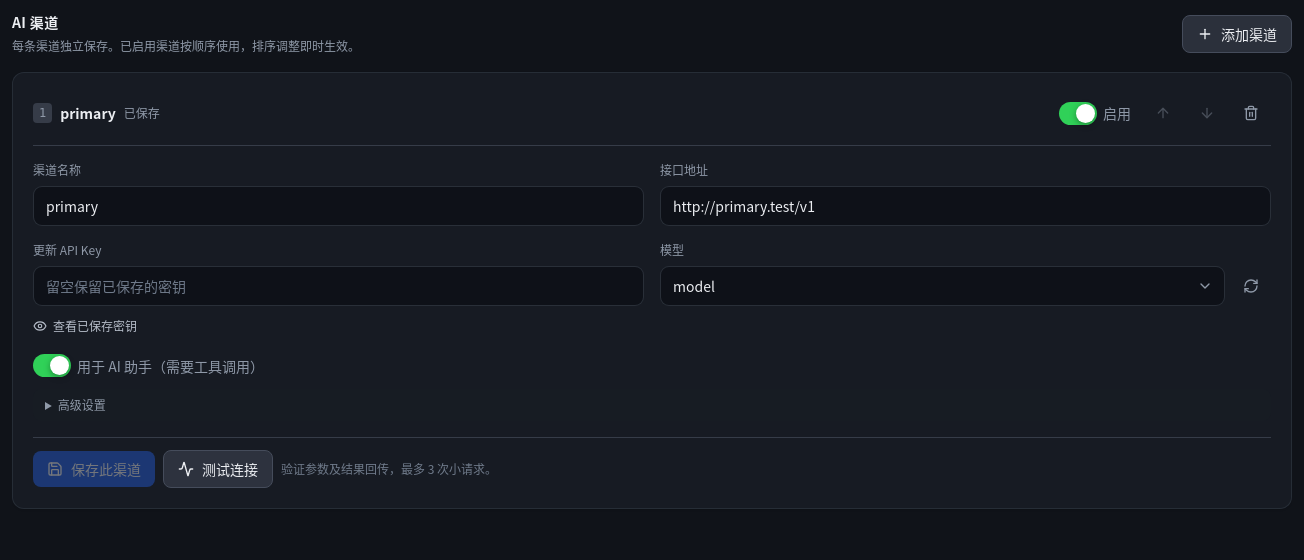
AI 渠道设置 › 撤销回到已保存值；过期版本保留草稿并可显式重新载入
Replace the text in the field labelled "渠道名称" with "草稿" at x=338, y=206, box [33,186,644,226]
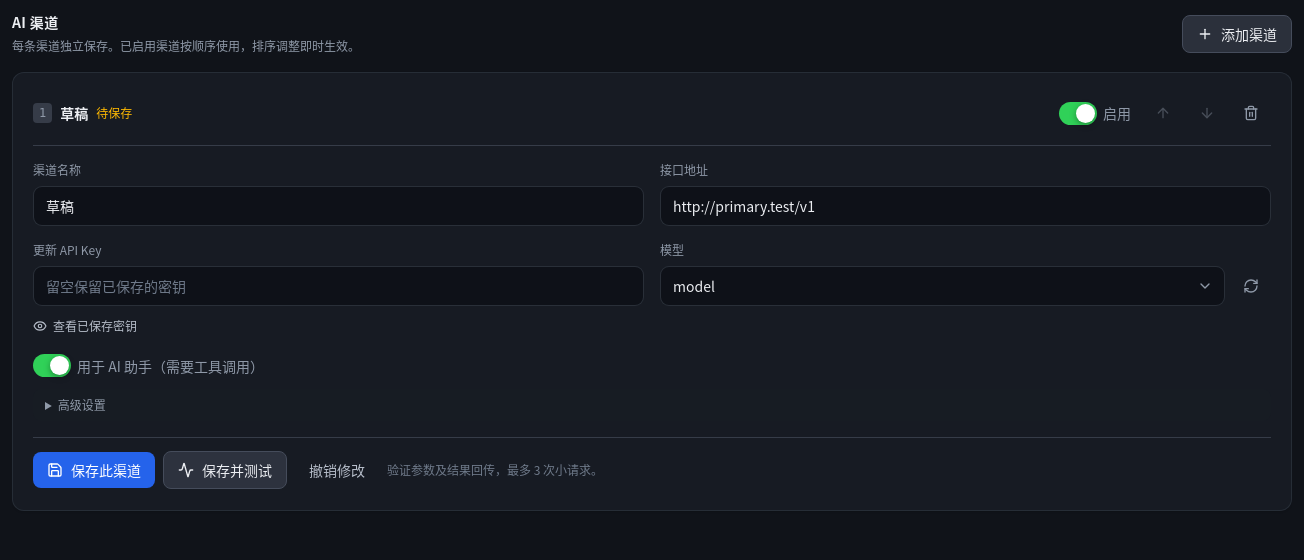
Click the button "撤销修改" at x=337, y=470, box [295,450,379,490]
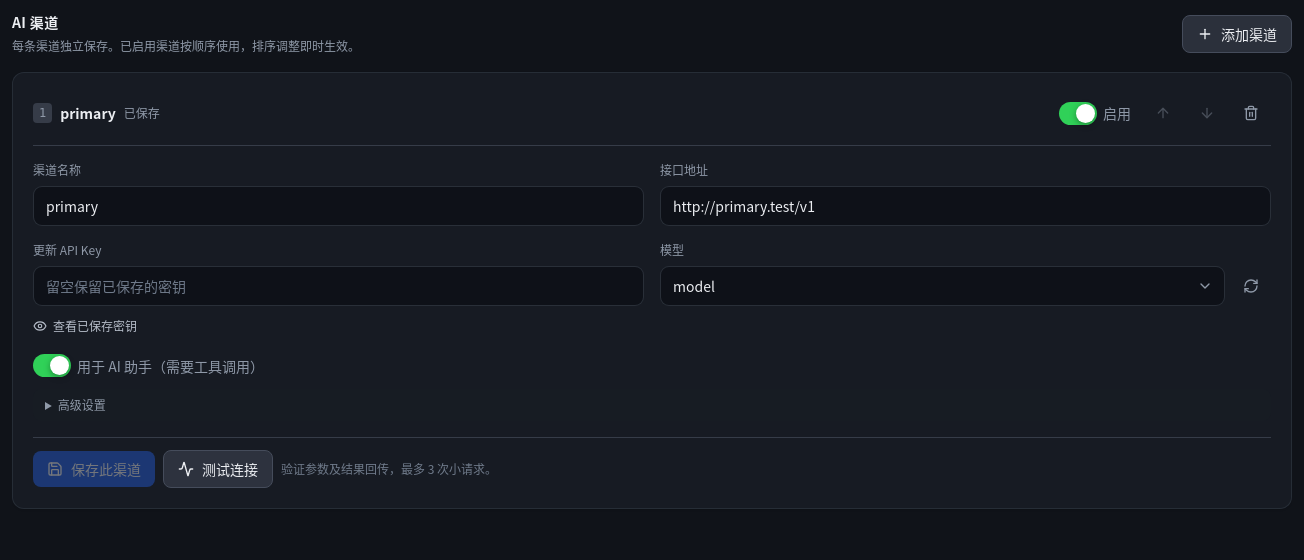
Check: the text "primary" is shown, box [60,103,116,123]
Replace the text in the field labelled "渠道名称" with "再次草稿" at x=338, y=206, box [33,186,644,226]
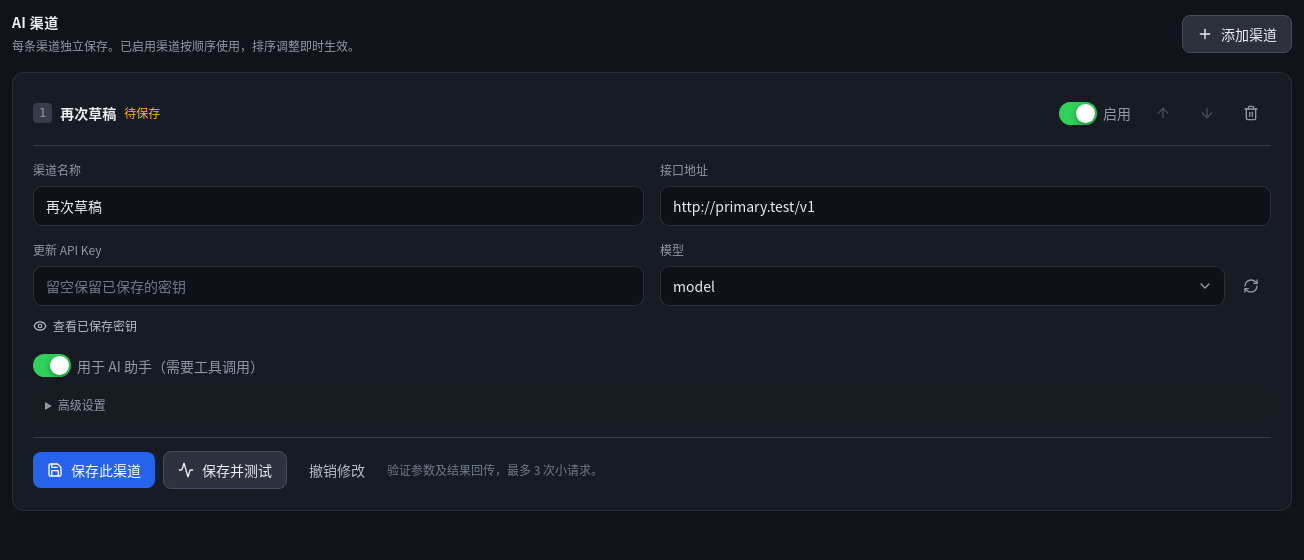
Click the button "保存此渠道" at x=94, y=470, box [33,452,155,488]
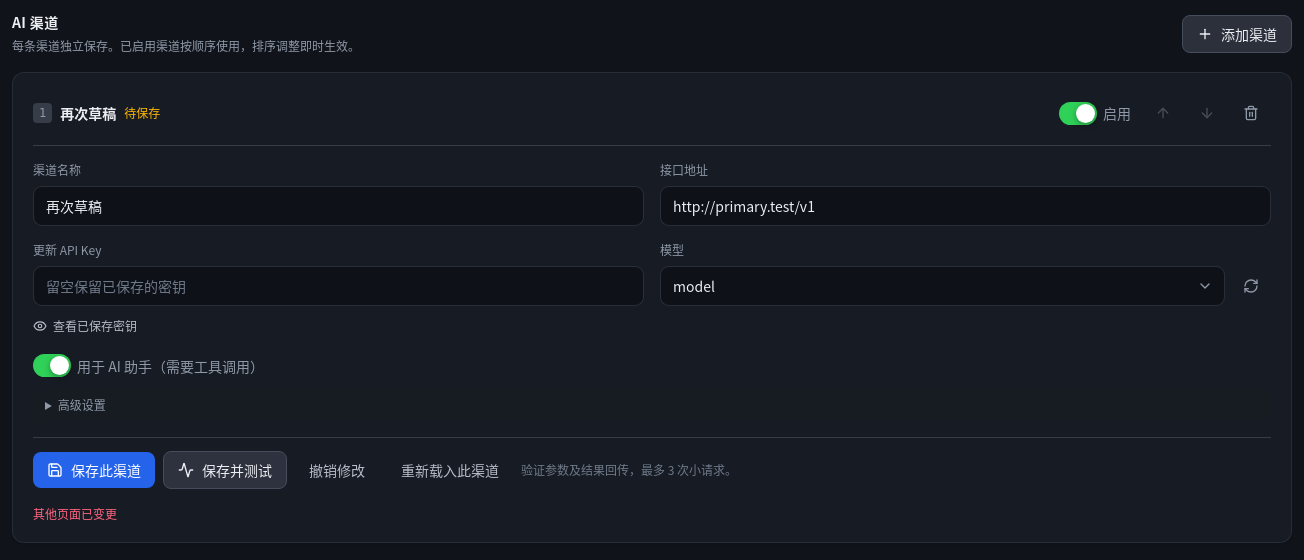
Check: the text "再次草稿" is shown, box [60,103,116,123]
Click the button "重新载入此渠道" at x=450, y=470, box [387,450,513,490]
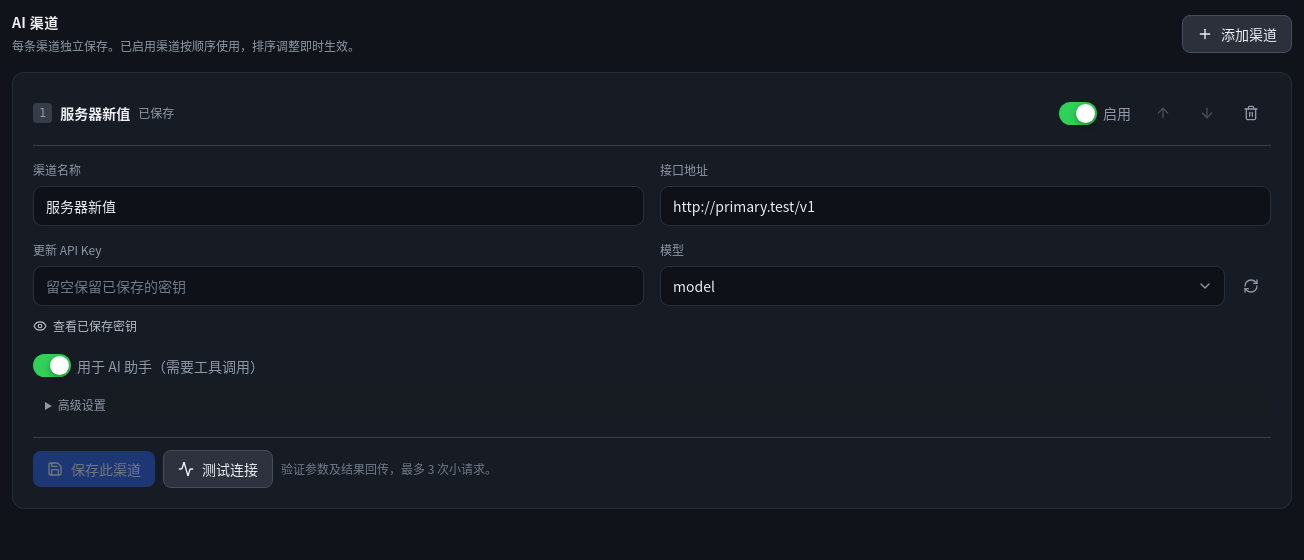
Check: the text "服务器新值" is shown, box [60,103,130,123]
